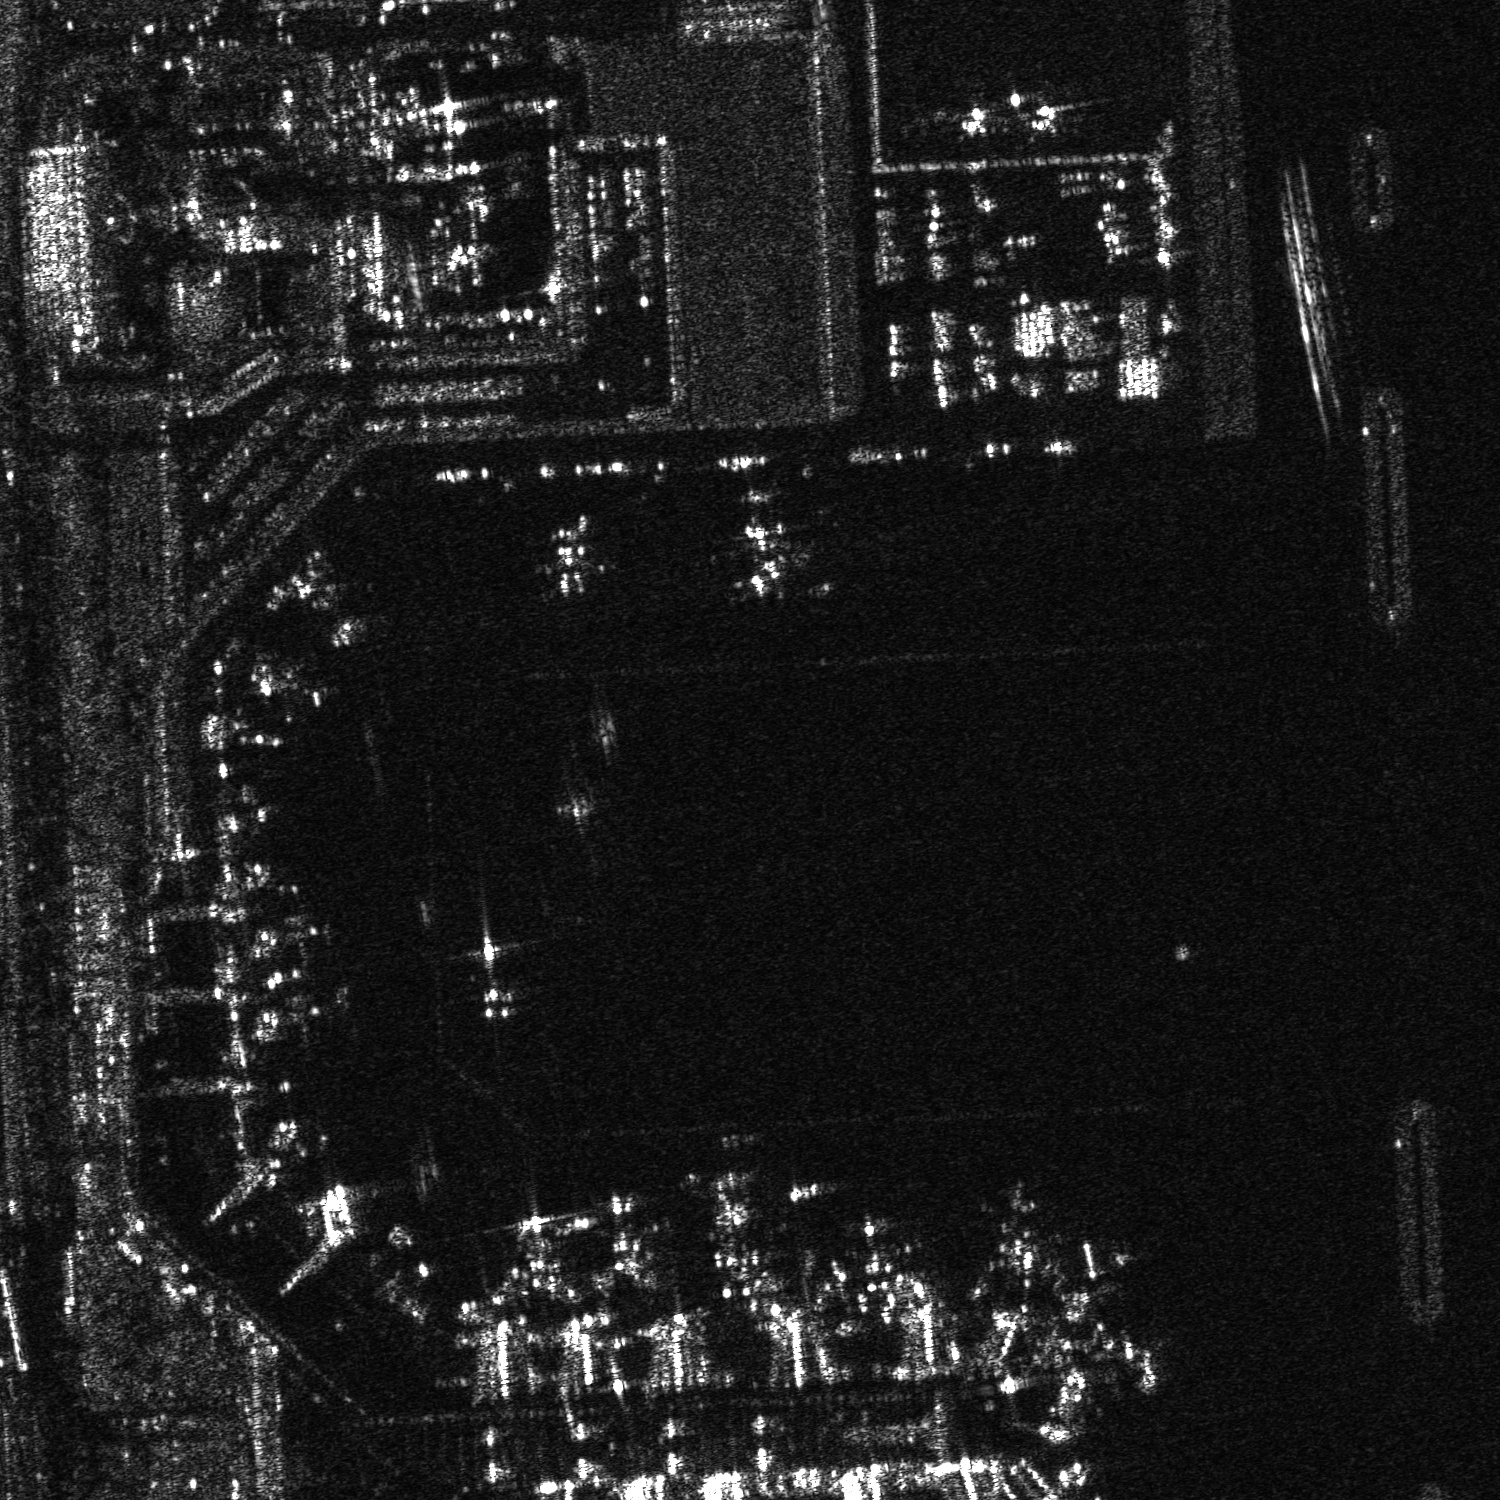A220: (485, 1206, 582, 1302), (262, 977, 357, 1051), (287, 578, 378, 648), (253, 657, 339, 727), (255, 898, 341, 964)
A320/321: (690, 1166, 793, 1275), (966, 1184, 1078, 1280), (826, 1216, 918, 1297)
ARJ21: (934, 93, 1012, 141)
Boeing737: (433, 933, 563, 1023), (523, 510, 620, 603)
other: (707, 482, 826, 600), (585, 1190, 681, 1288), (552, 777, 614, 837), (1016, 93, 1089, 137)
